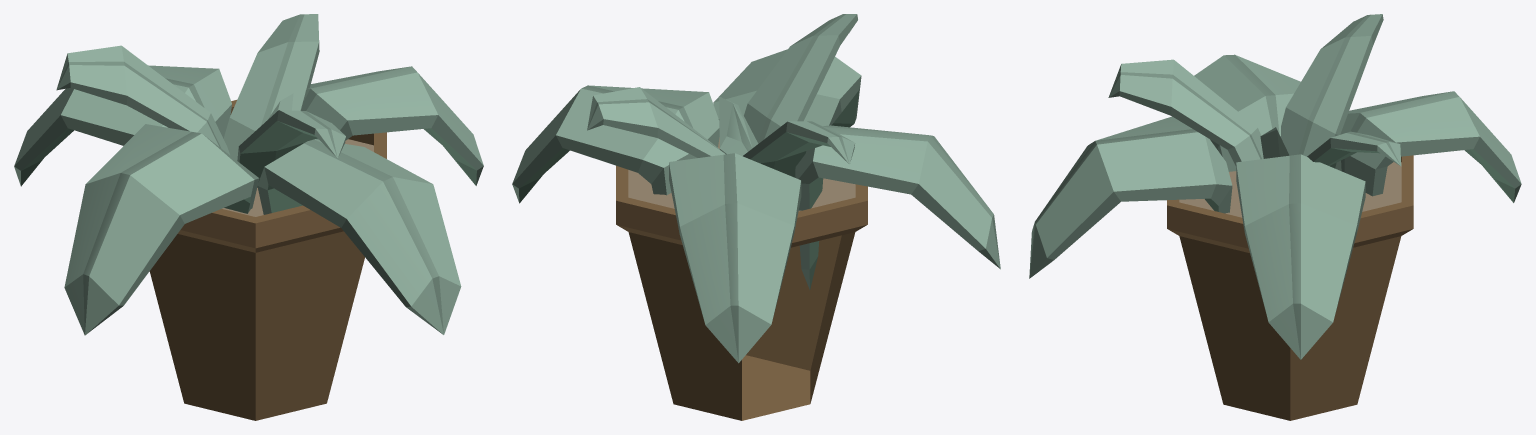
Rendered from leaf_plant.fbx.
3 renders of one model, left to right at view 1: azimuth 30°, elevation 25°; view 2: azimuth 150°, elevation 25°; view 3: azimuth 270°, elevation 25°, orthographic. The views are drawn at different scales.
Parts seen in each view (by area): view 1: leaf_plant; view 2: leaf_plant; view 3: leaf_plant.
Part boxes in pixels (x1,y1,x2,y2): leaf_plant: [14, 14, 483, 420]; leaf_plant: [512, 14, 1000, 420]; leaf_plant: [1029, 14, 1521, 420].
Size of the model in its own units: 0.9512 by 0.6703 by 0.9621.
